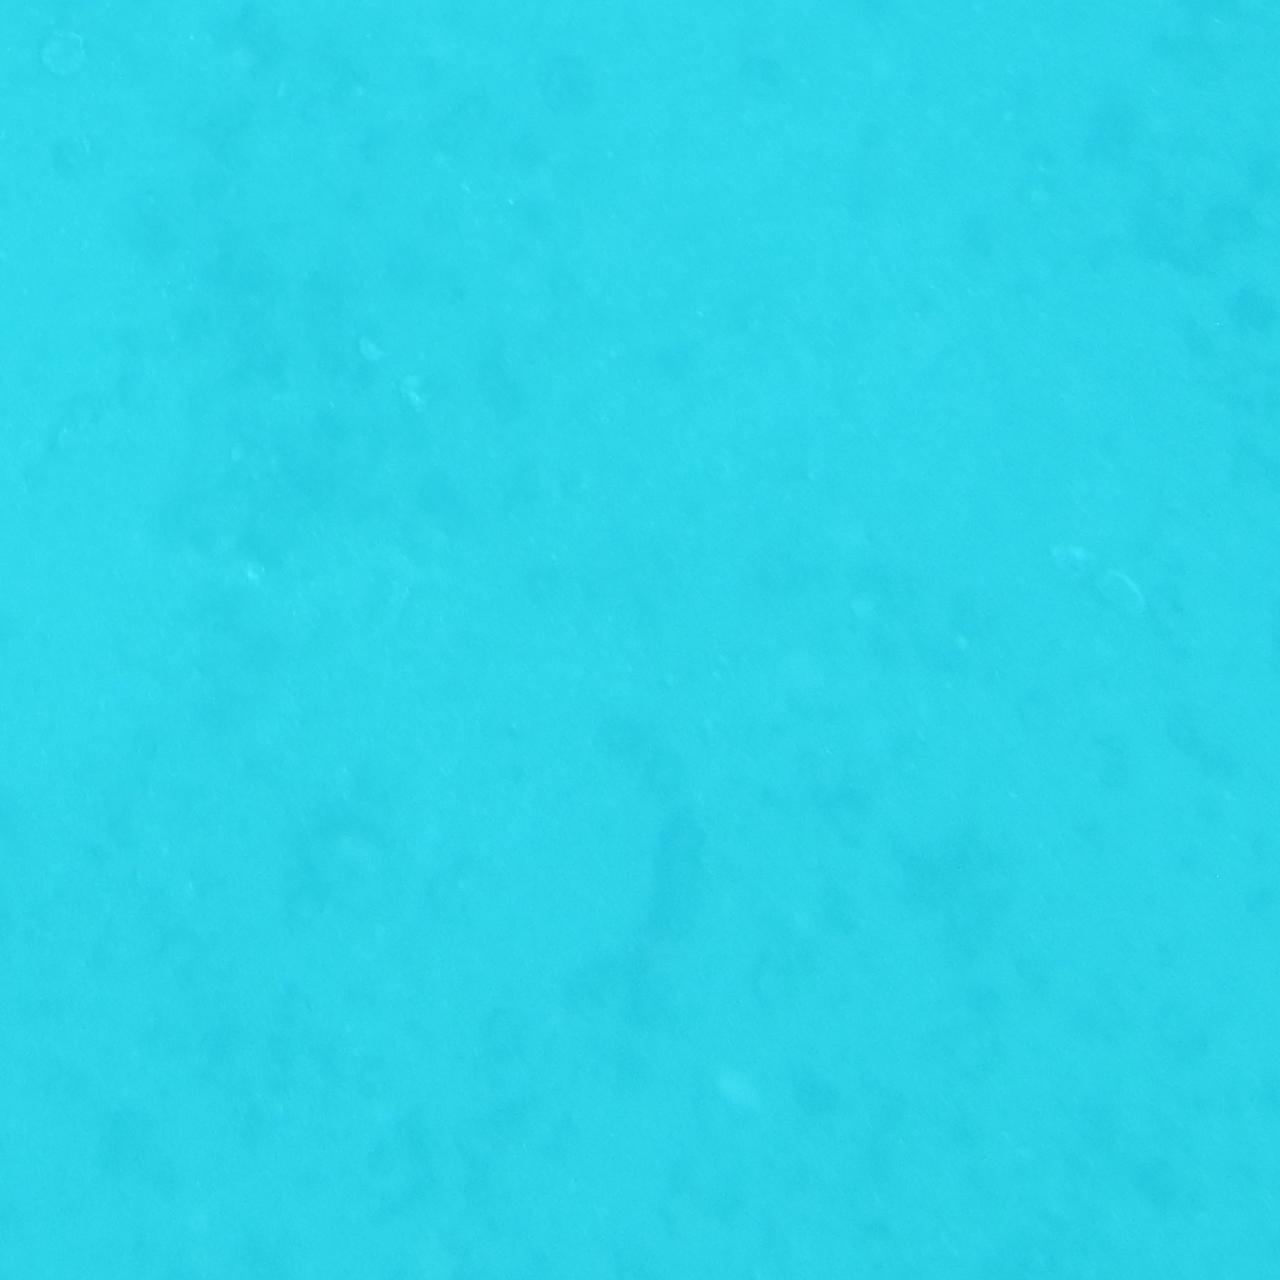Holothuria tubulosa: (560, 710, 720, 1050)
